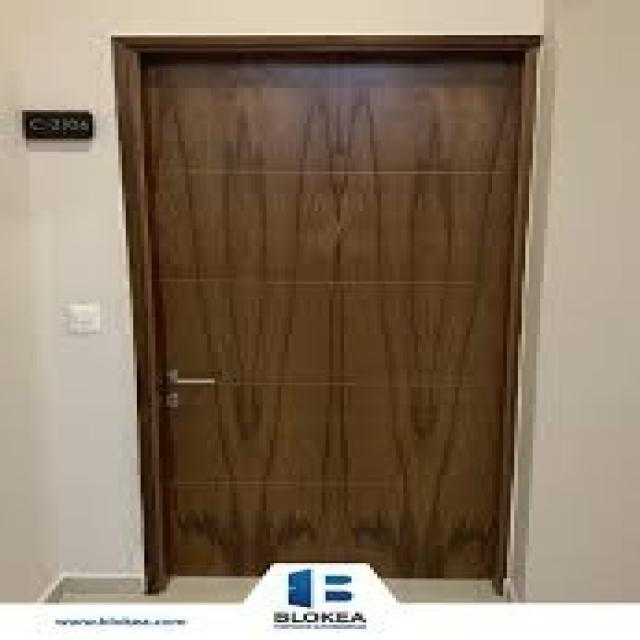door: (115, 36, 532, 593)
